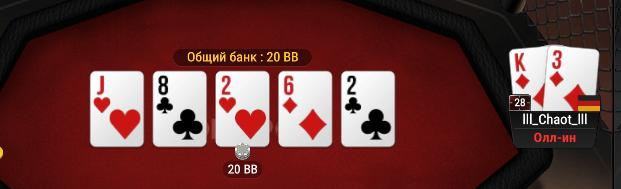2c: (342, 71, 395, 145)
2h: (216, 71, 269, 147)
3d: (547, 44, 599, 111)
6d: (279, 71, 331, 148)
8c: (153, 71, 206, 147)
Jh: (91, 71, 142, 146)
Kd: (508, 44, 547, 113)
